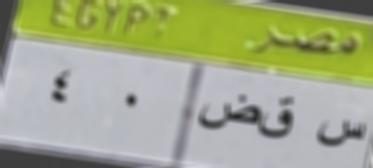0: (116, 87, 154, 115)
4: (45, 65, 79, 110)
daad: (198, 94, 260, 141)
qaaf: (262, 94, 300, 146)
seen: (312, 111, 369, 150)
